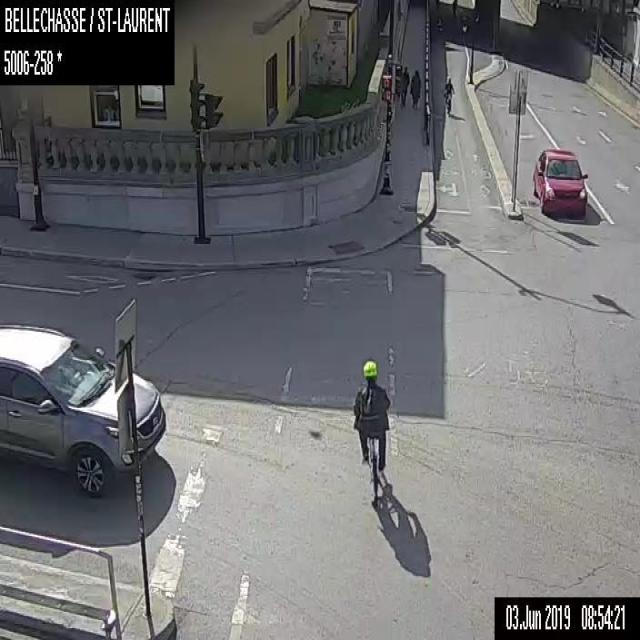cyclist: (352, 357, 391, 512), (442, 76, 454, 116), (450, 0, 457, 21)
pedestrian: (398, 66, 409, 106), (410, 70, 420, 110)
vehicle: (0, 322, 165, 498), (532, 149, 588, 218)
